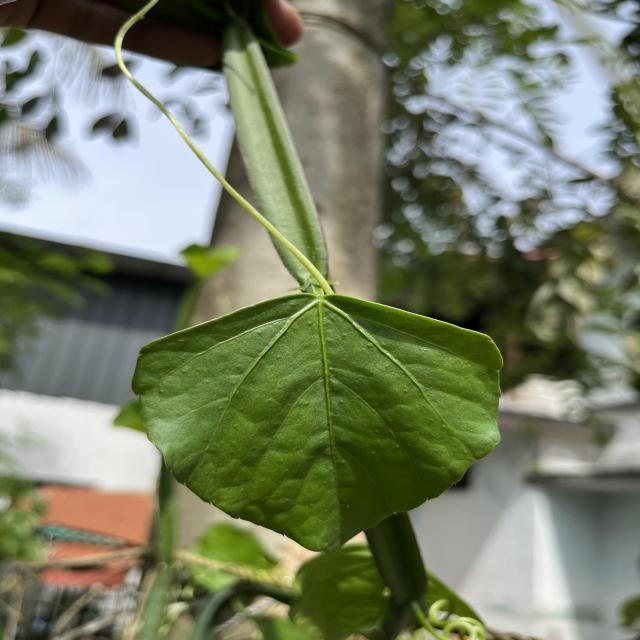Cissus quadrangularis: (130, 287, 505, 557)
